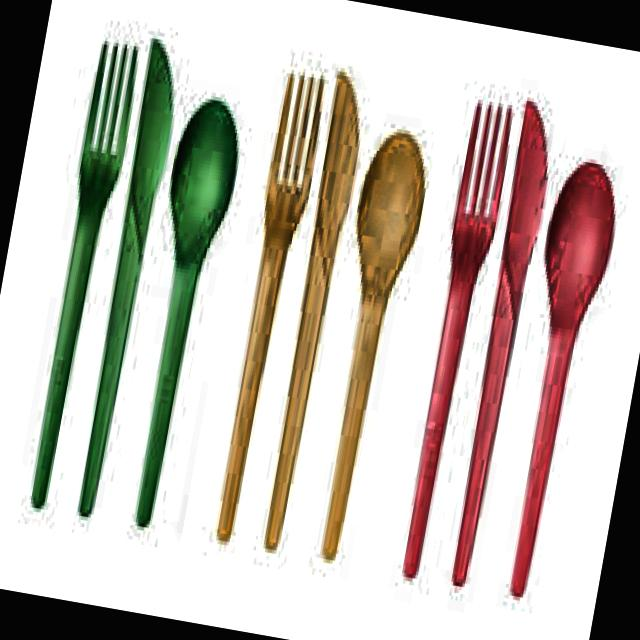plastic utensil: (405, 108, 509, 576), (220, 76, 321, 539), (34, 44, 135, 507), (454, 101, 547, 585), (513, 162, 614, 595), (267, 72, 358, 548), (81, 39, 172, 515), (326, 132, 424, 558), (139, 99, 237, 525)
